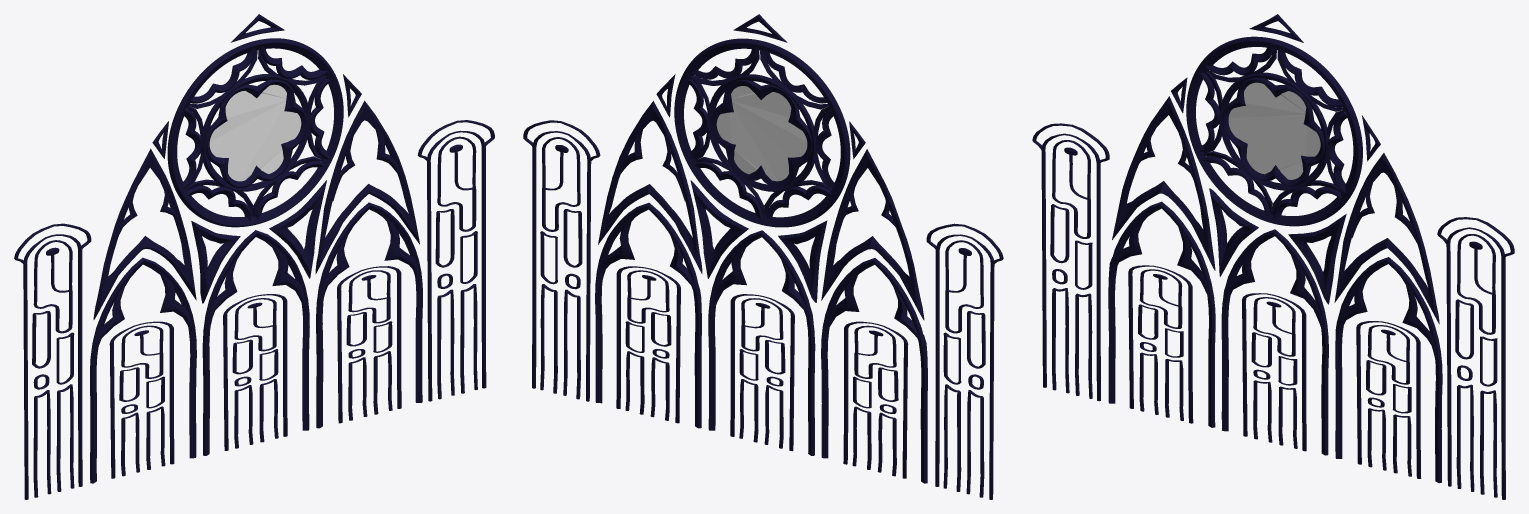
The model's file is Puerta_reja.obj.
The picture shows the model from 3 angles, left to right: view 1: azimuth 30°, elevation 25°; view 2: azimuth 150°, elevation 25°; view 3: azimuth 330°, elevation 25°; orthographic projection.
Parts seen in each view (by area): view 1: BezierCircle.032_hk_banco_lampara, Object_49_hk_banco_lampara, Object_49.001_hk_banco_lampara, Círculo.001_hk_lampara, Object_49.003_hk_banco_lampara.001, Object_49.004_hk_banco_lampara.001, Object_49.002_hk_banco_lampara.001; view 2: BezierCircle.032_hk_banco_lampara, Object_49_hk_banco_lampara, Object_49.001_hk_banco_lampara, Círculo.001_hk_lampara, Object_49.003_hk_banco_lampara.001, Object_49.004_hk_banco_lampara.001, Object_49.002_hk_banco_lampara.001; view 3: BezierCircle.032_hk_banco_lampara, Object_49_hk_banco_lampara, Object_49.001_hk_banco_lampara, Círculo.001_hk_lampara, Object_49.003_hk_banco_lampara.001, Object_49.004_hk_banco_lampara.001, Object_49.002_hk_banco_lampara.001.
Boxes of the visible parts, left/top/right/bottom form: BezierCircle.032_hk_banco_lampara: left=90, top=14, right=422, bottom=483; Object_49_hk_banco_lampara: left=417, top=120, right=494, bottom=401; Object_49.001_hk_banco_lampara: left=14, top=223, right=91, bottom=499; Círculo.001_hk_lampara: left=209, top=84, right=301, bottom=181; Object_49.003_hk_banco_lampara.001: left=223, top=294, right=287, bottom=450; Object_49.004_hk_banco_lampara.001: left=337, top=266, right=401, bottom=423; Object_49.002_hk_banco_lampara.001: left=109, top=321, right=174, bottom=478; BezierCircle.032_hk_banco_lampara: left=595, top=14, right=927, bottom=483; Object_49_hk_banco_lampara: left=523, top=120, right=600, bottom=401; Object_49.001_hk_banco_lampara: left=926, top=223, right=1003, bottom=499; Círculo.001_hk_lampara: left=716, top=86, right=807, bottom=181; Object_49.003_hk_banco_lampara.001: left=730, top=294, right=794, bottom=451; Object_49.004_hk_banco_lampara.001: left=616, top=266, right=680, bottom=423; Object_49.002_hk_banco_lampara.001: left=843, top=321, right=908, bottom=478; BezierCircle.032_hk_banco_lampara: left=1108, top=14, right=1442, bottom=483; Object_49_hk_banco_lampara: left=1437, top=217, right=1514, bottom=499; Object_49.001_hk_banco_lampara: left=1032, top=123, right=1109, bottom=401; Círculo.001_hk_lampara: left=1228, top=82, right=1320, bottom=179; Object_49.003_hk_banco_lampara.001: left=1242, top=293, right=1306, bottom=451; Object_49.004_hk_banco_lampara.001: left=1356, top=321, right=1421, bottom=478; Object_49.002_hk_banco_lampara.001: left=1128, top=265, right=1193, bottom=423.
Bounding box in the file's own units: 27.85 × 23.76 × 0.6781.
